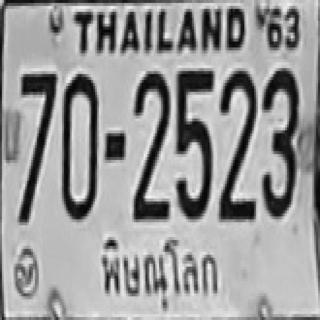N00: (61, 71, 98, 219)
N02: (218, 68, 257, 219), (132, 70, 169, 221), (219, 68, 256, 210)
N03: (260, 65, 297, 216)
N05: (175, 68, 211, 216)
N07: (17, 71, 56, 222)
P46: (96, 233, 220, 312)
